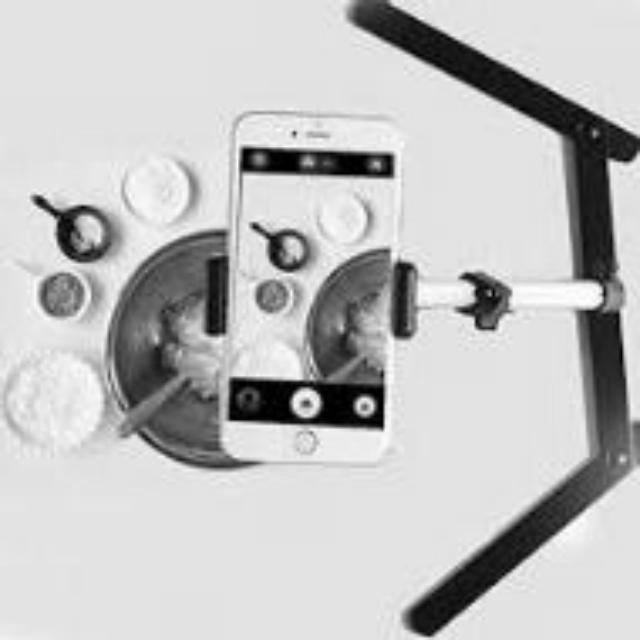fake: (210, 100, 415, 465)
